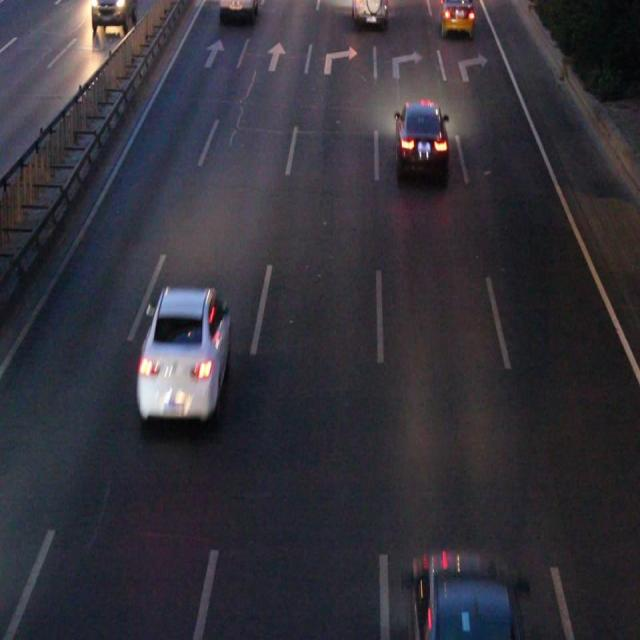car: (138, 290, 228, 418), (407, 554, 528, 640), (394, 104, 447, 177), (440, 1, 472, 31), (352, 1, 384, 22)
